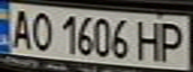0: (90, 15, 112, 58)
1: (54, 11, 78, 54)
6: (109, 16, 136, 61), (75, 14, 96, 56)
A: (6, 6, 36, 51)
H: (133, 17, 166, 62)
O: (27, 8, 57, 52)
P: (154, 19, 190, 63)
